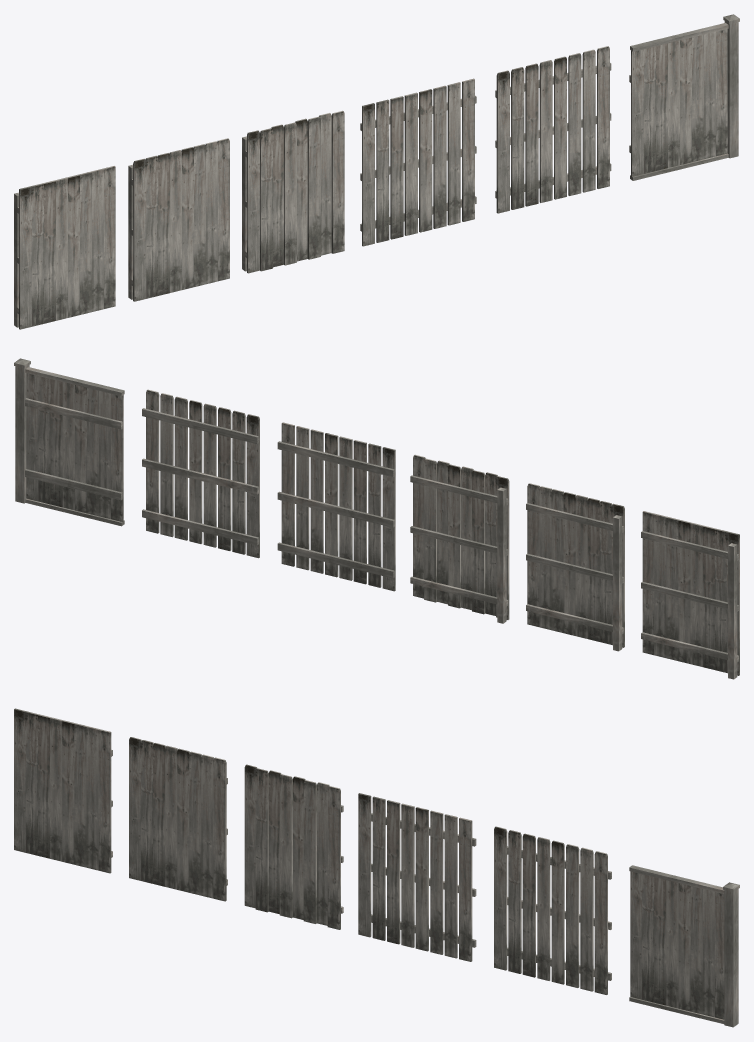
The model's file is Fence.fbx.
3 renders of one model, top to bottom at view 1: azimuth 30°, elevation 25°; view 2: azimuth 150°, elevation 25°; view 3: azimuth 330°, elevation 25°, orthographic.
Visible parts, largest first — view 1: FenceV4, FenceV5, FenceV6, FenceV3, FenceV1, FenceV2, FenceV1Rails, FenceRailsV3, FenceRailsV2; view 2: FenceV4, FenceV5, FenceV6, FenceV1, FenceV2, FenceV3, FenceRailsV2, FenceV1Rails, FenceRailsV3; view 3: FenceV4, FenceV5, FenceV6, FenceV1, FenceV2, FenceV3.
Boxes of the visible parts, x1,y1,x2,y2 form: FenceV4: (360, 78, 476, 246); FenceV5: (495, 46, 611, 213); FenceV6: (629, 14, 739, 180); FenceV3: (247, 110, 344, 273); FenceV1: (19, 166, 115, 329); FenceV2: (133, 138, 229, 301); FenceV1Rails: (14, 192, 18, 327); FenceRailsV3: (242, 136, 246, 271); FenceRailsV2: (128, 164, 132, 299); FenceV4: (277, 422, 395, 591); FenceV5: (142, 389, 259, 558); FenceV6: (14, 358, 124, 526); FenceV1: (642, 511, 739, 675); FenceV2: (527, 483, 624, 647); FenceV3: (413, 454, 509, 619); FenceRailsV2: (526, 503, 623, 651); FenceV1Rails: (641, 531, 738, 679); FenceRailsV3: (410, 475, 507, 623); FenceV4: (358, 793, 476, 961); FenceV5: (494, 826, 611, 994); FenceV6: (629, 865, 739, 1027); FenceV1: (14, 708, 111, 873); FenceV2: (129, 737, 226, 901); FenceV3: (244, 764, 340, 929).
Bounding box in the file's own units: 1067 × 199 × 23.43.
1 material, 1 textured.
